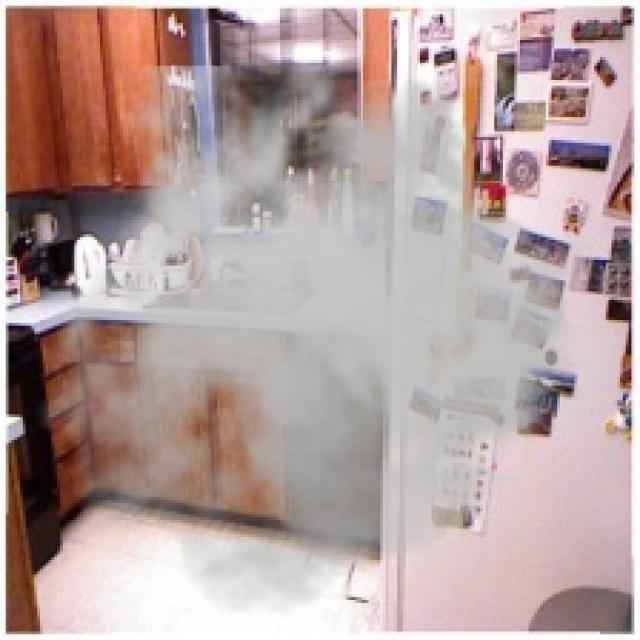Smoke: (34, 65, 592, 618)
